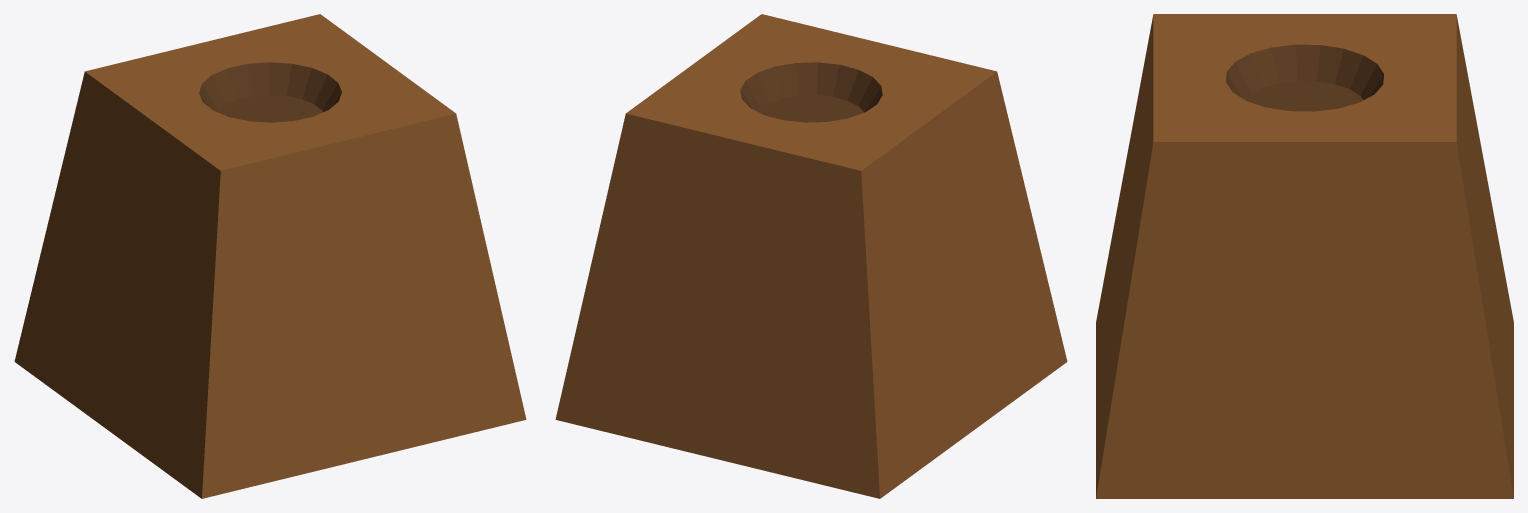
The model's file is LIGHTBULBSTAND.fbx.
3 views of the same model, side by side, from view 1: azimuth 30°, elevation 25°; view 2: azimuth 150°, elevation 25°; view 3: azimuth 270°, elevation 25° (orthographic). The views are drawn at different scales.
Parts seen in each view (by area): view 1: Cube.272; view 2: Cube.272; view 3: Cube.272.
Boxes of the visible parts, x1=… form: Cube.272: x1=14, y1=14, x2=526, y2=498; Cube.272: x1=555, y1=14, x2=1067, y2=498; Cube.272: x1=1096, y1=14, x2=1513, y2=498.
Size of the model in its own units: 179 by 157 by 179.
